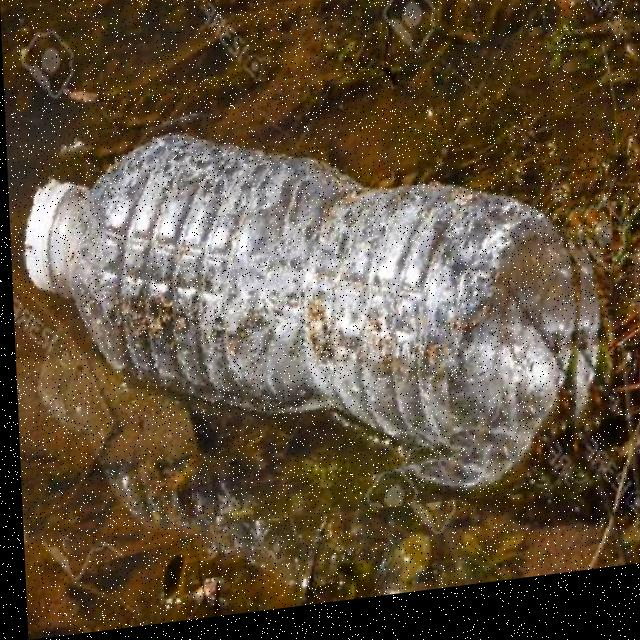plasticbottle: (4, 56, 606, 557)
